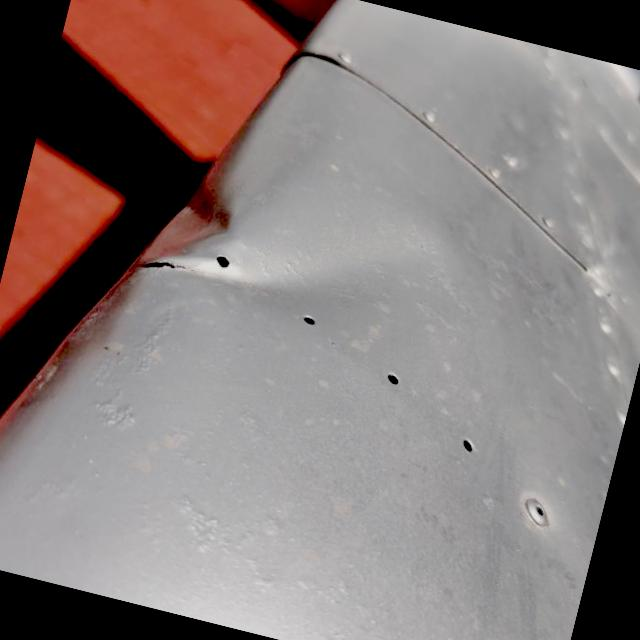crack: (121, 240, 202, 290)
dent: (95, 132, 339, 346)
